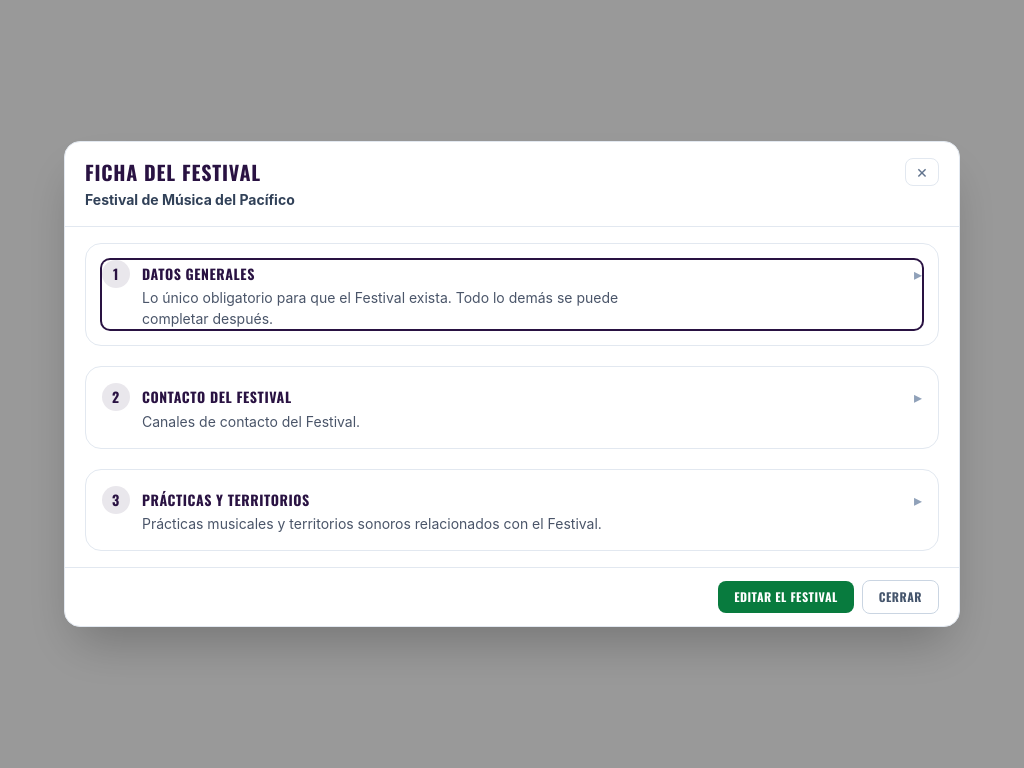
Test: FichaFestivalComponent · la misma vista para leer, editar y crear › guardar el Festival gasta UNA petición, y es la de la cabecera
The width and height of the screenshot is (1024, 768).
Click the button "Editar el Festival": coordinates (786, 597) [718,581,854,613]
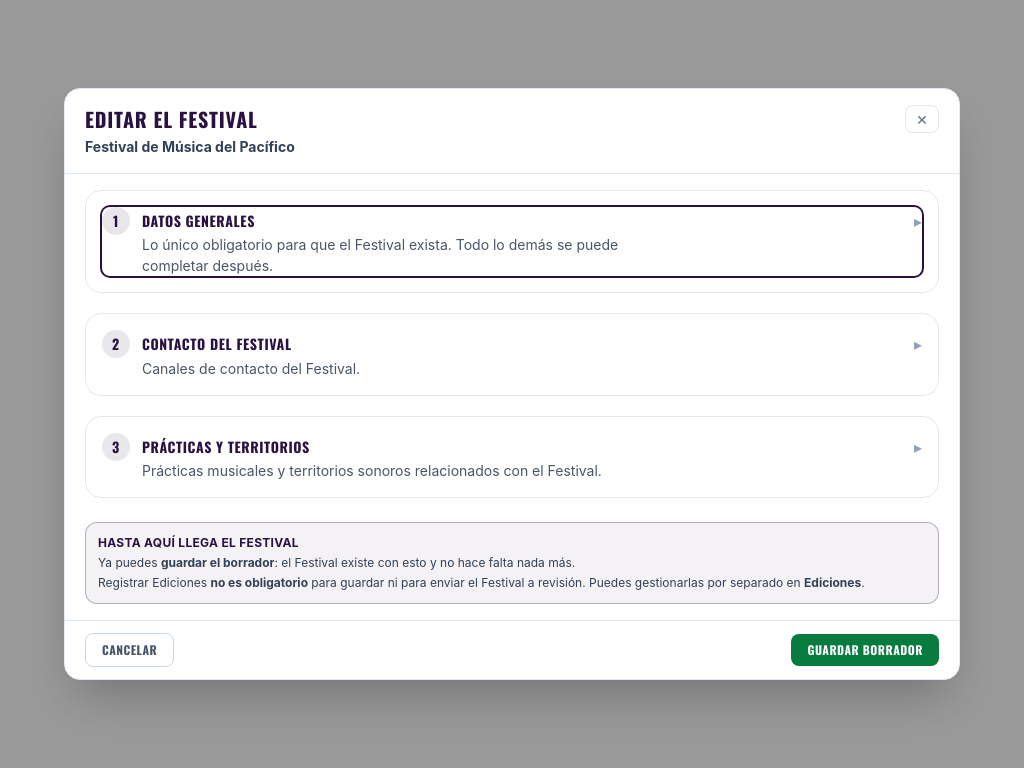
Click the button that starts with "Datos generales": coordinates (512, 242) [102,207,922,276]
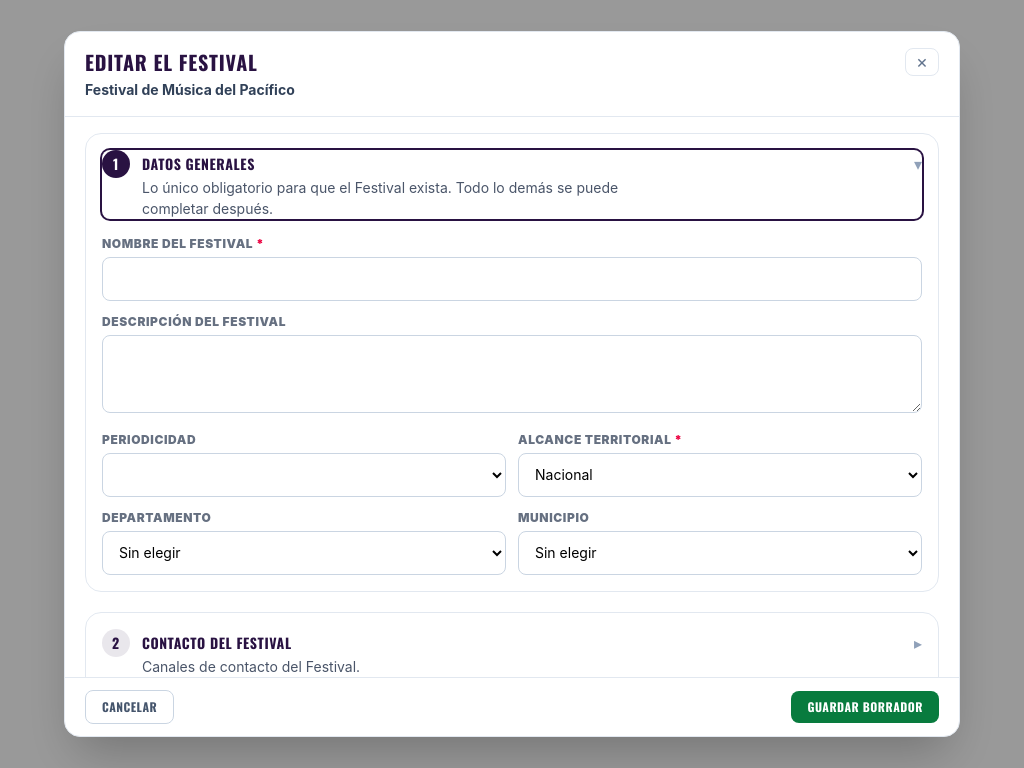
Click the button "2 Contacto del Festival Canales de contacto del Festival. ▸": coordinates (217, 642) [102,629,922,677]
(page scrolled)
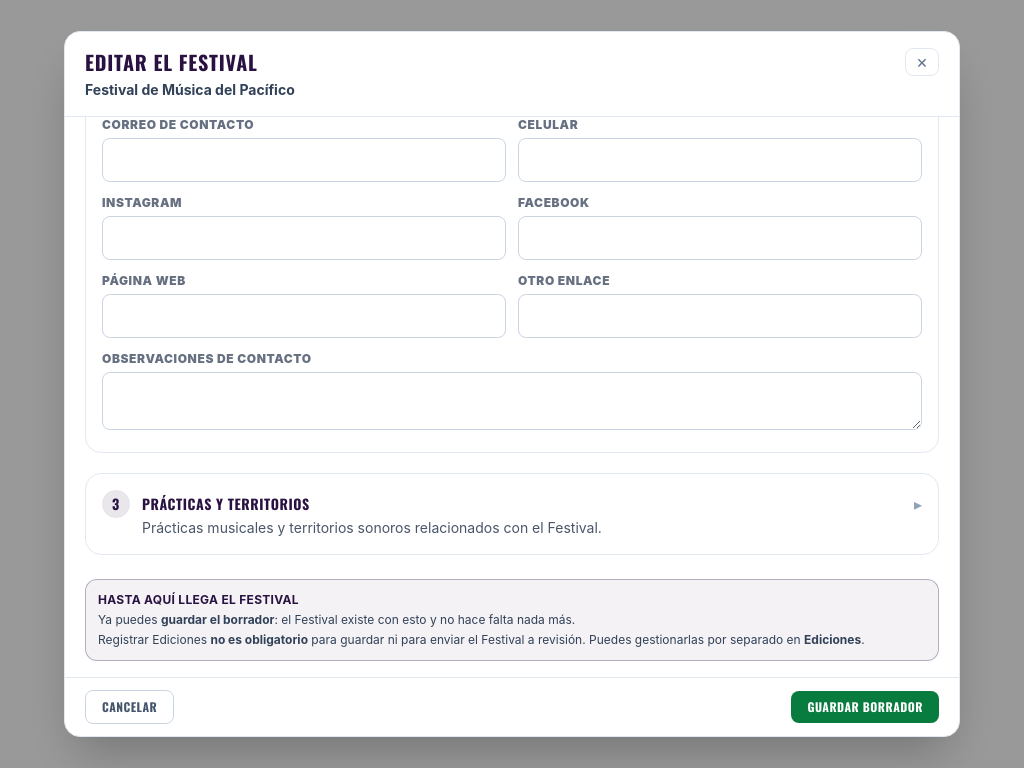
Click the button that starts with "Prácticas y territorios": coordinates (226, 504) [102,490,922,538]
(page scrolled)
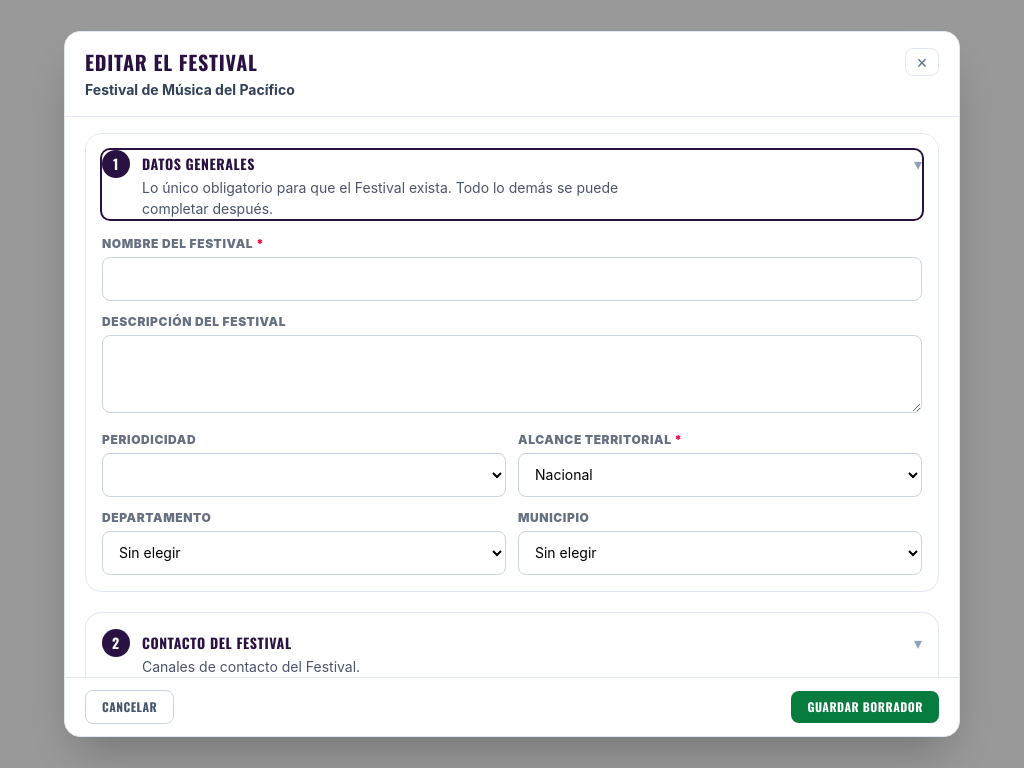
In the field named "nombre": coordinates (512, 279) [102,257,922,301], type "Festival con el nombre corregido"
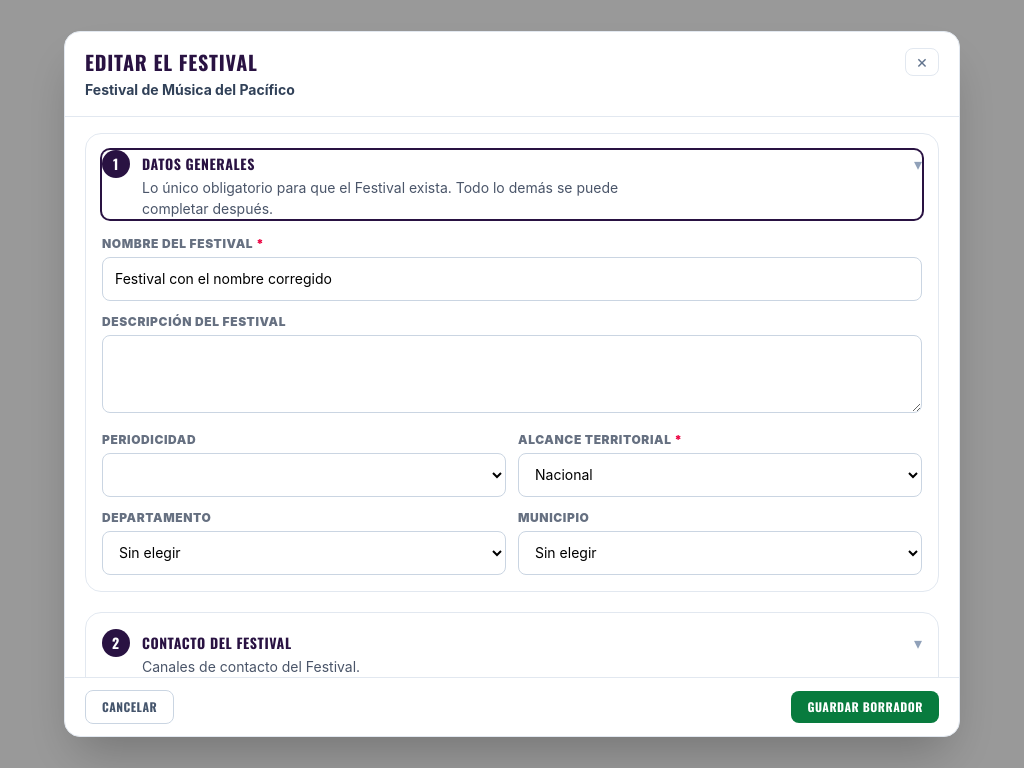
Click the button "Guardar borrador": coordinates (865, 707) [791,691,939,723]
(page scrolled)
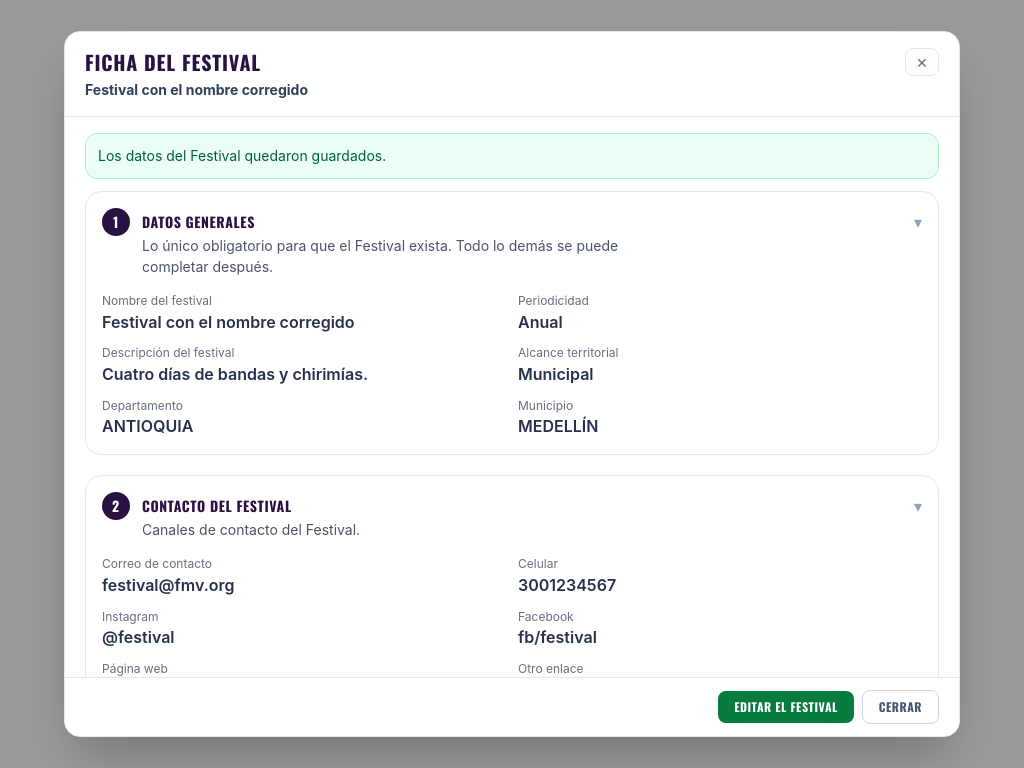
Result: the text "Festival con el nombre corregido" below "Ficha del Festival" is shown at [85,81,308,98]
